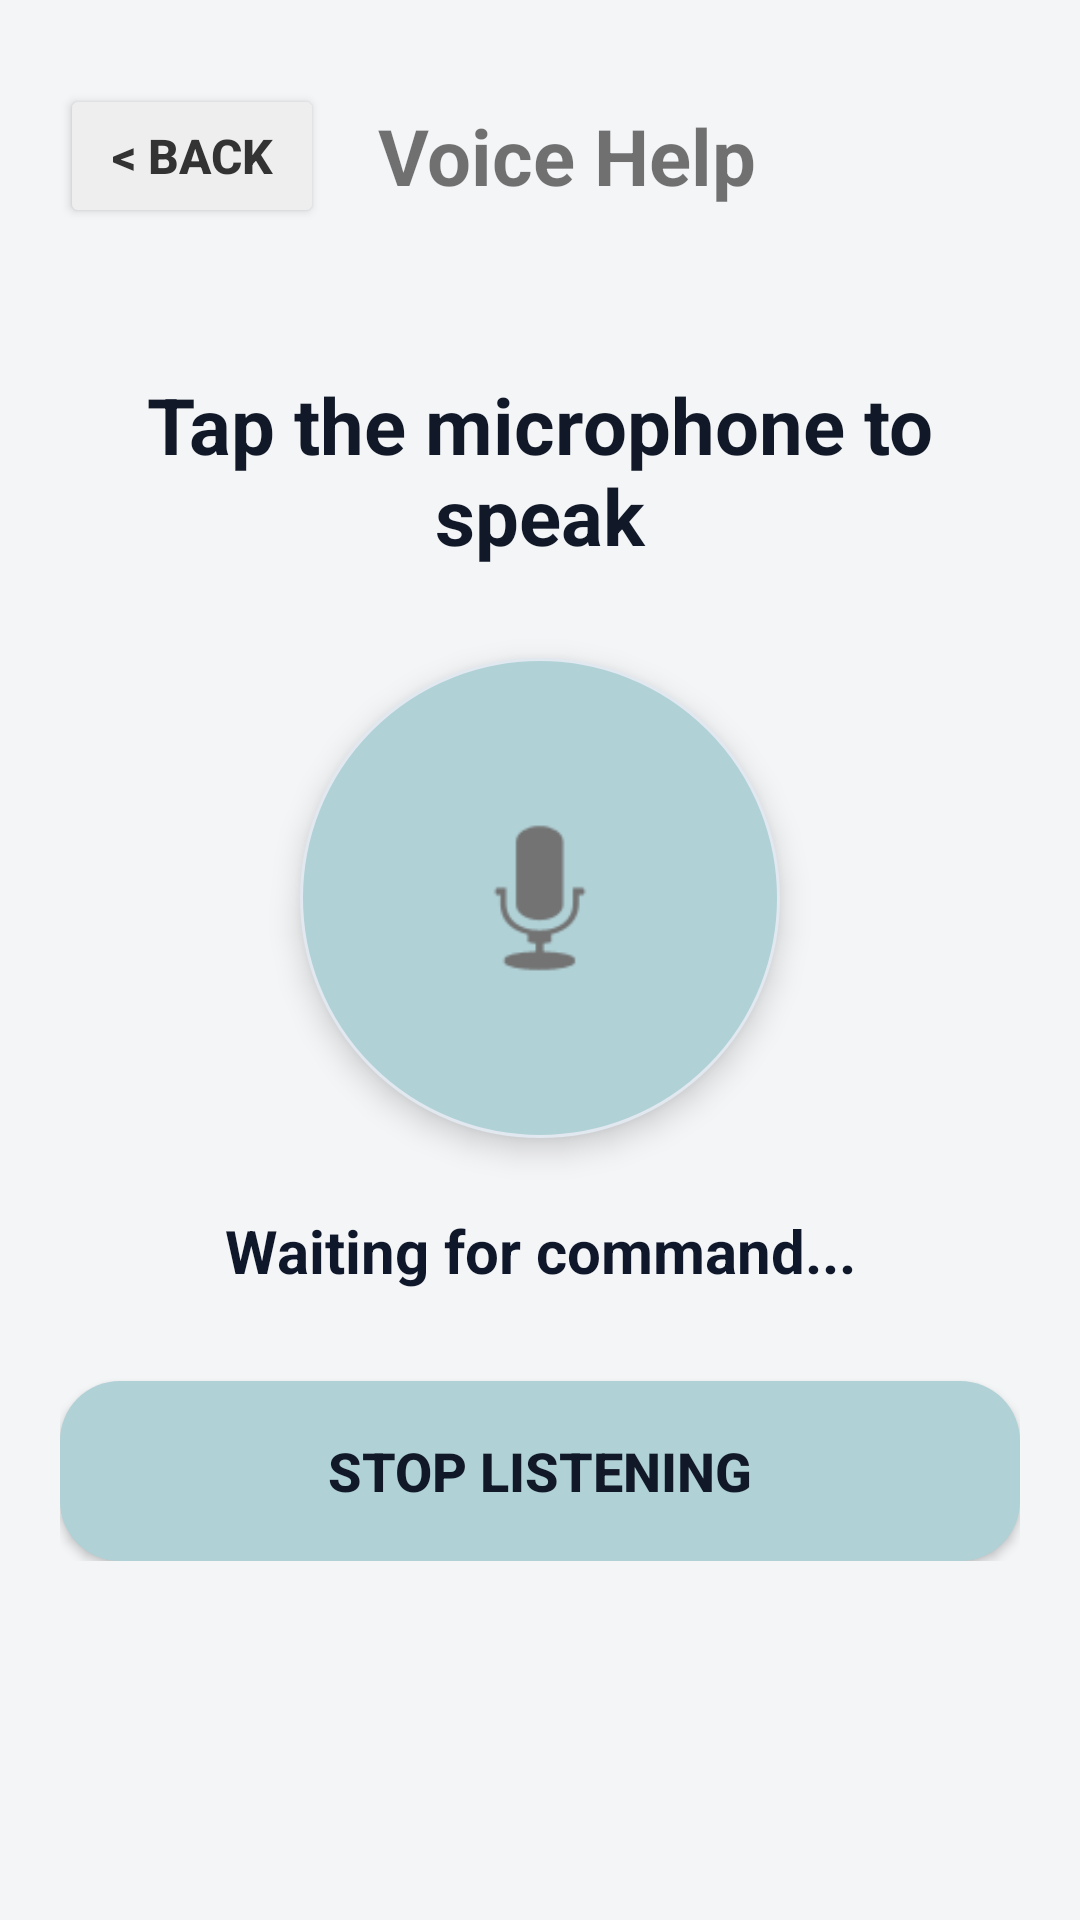

Screen size 1080*1920. Icon name, then its center in pixels as [x,y]:
speak now: [539,898]
